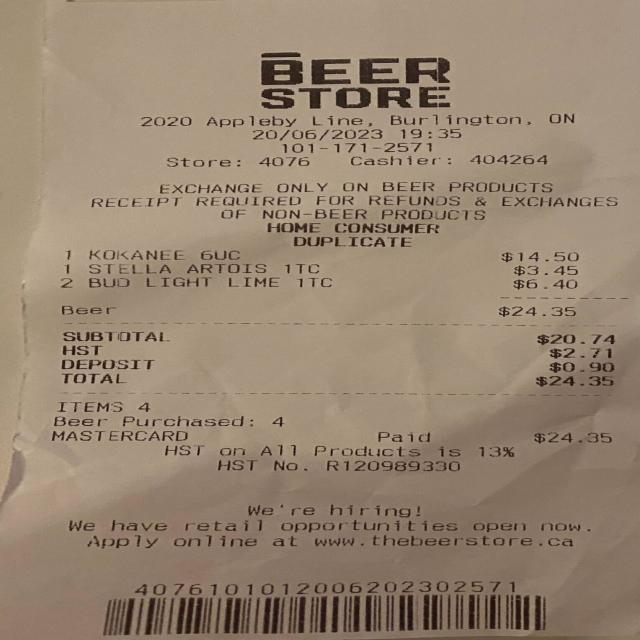item: (84, 276, 599, 298), (82, 245, 599, 266), (84, 261, 601, 281)
store_name: (247, 46, 469, 112)
total_amount: (50, 369, 630, 396)
transaction_date: (241, 125, 398, 144)
